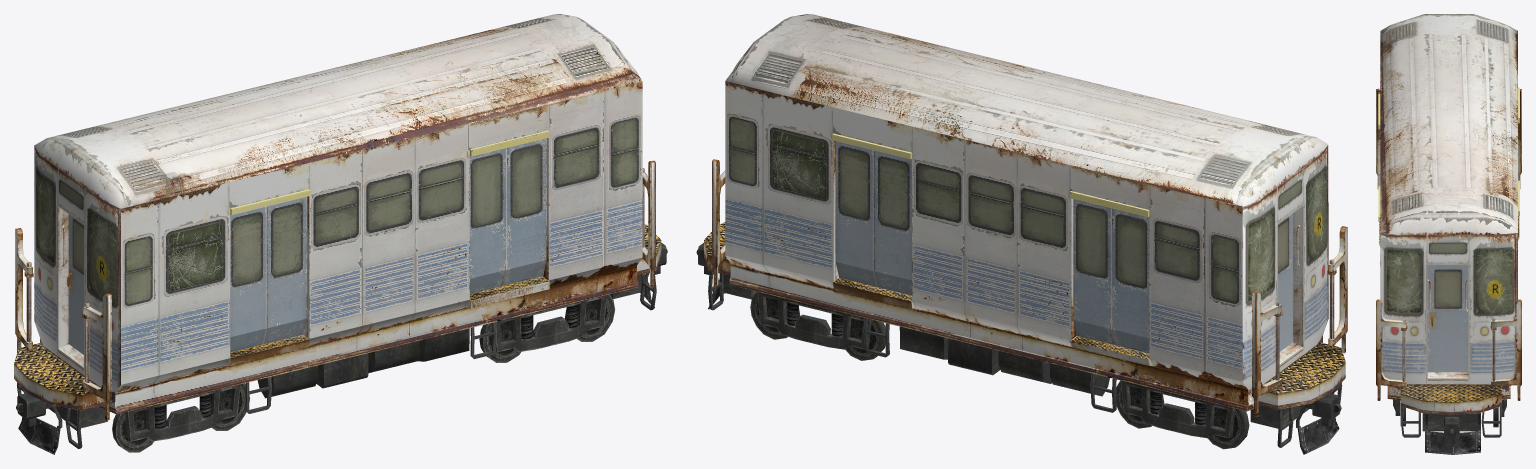
File: Train1.fbx
3 views of the same model, side by side, from view 1: azimuth 30°, elevation 25°; view 2: azimuth 150°, elevation 25°; view 3: azimuth 270°, elevation 25° (orthographic). The views are drawn at different scales.
Parts seen in each view (by area): view 1: Train; view 2: Train; view 3: Train.
Part boxes in pixels (box(x1,y1,x2,y2)): Train: box(14, 14, 667, 454); Train: box(696, 14, 1347, 454); Train: box(1376, 14, 1521, 454).
Bounding box in the file's own units: 1471 × 615 × 360.
